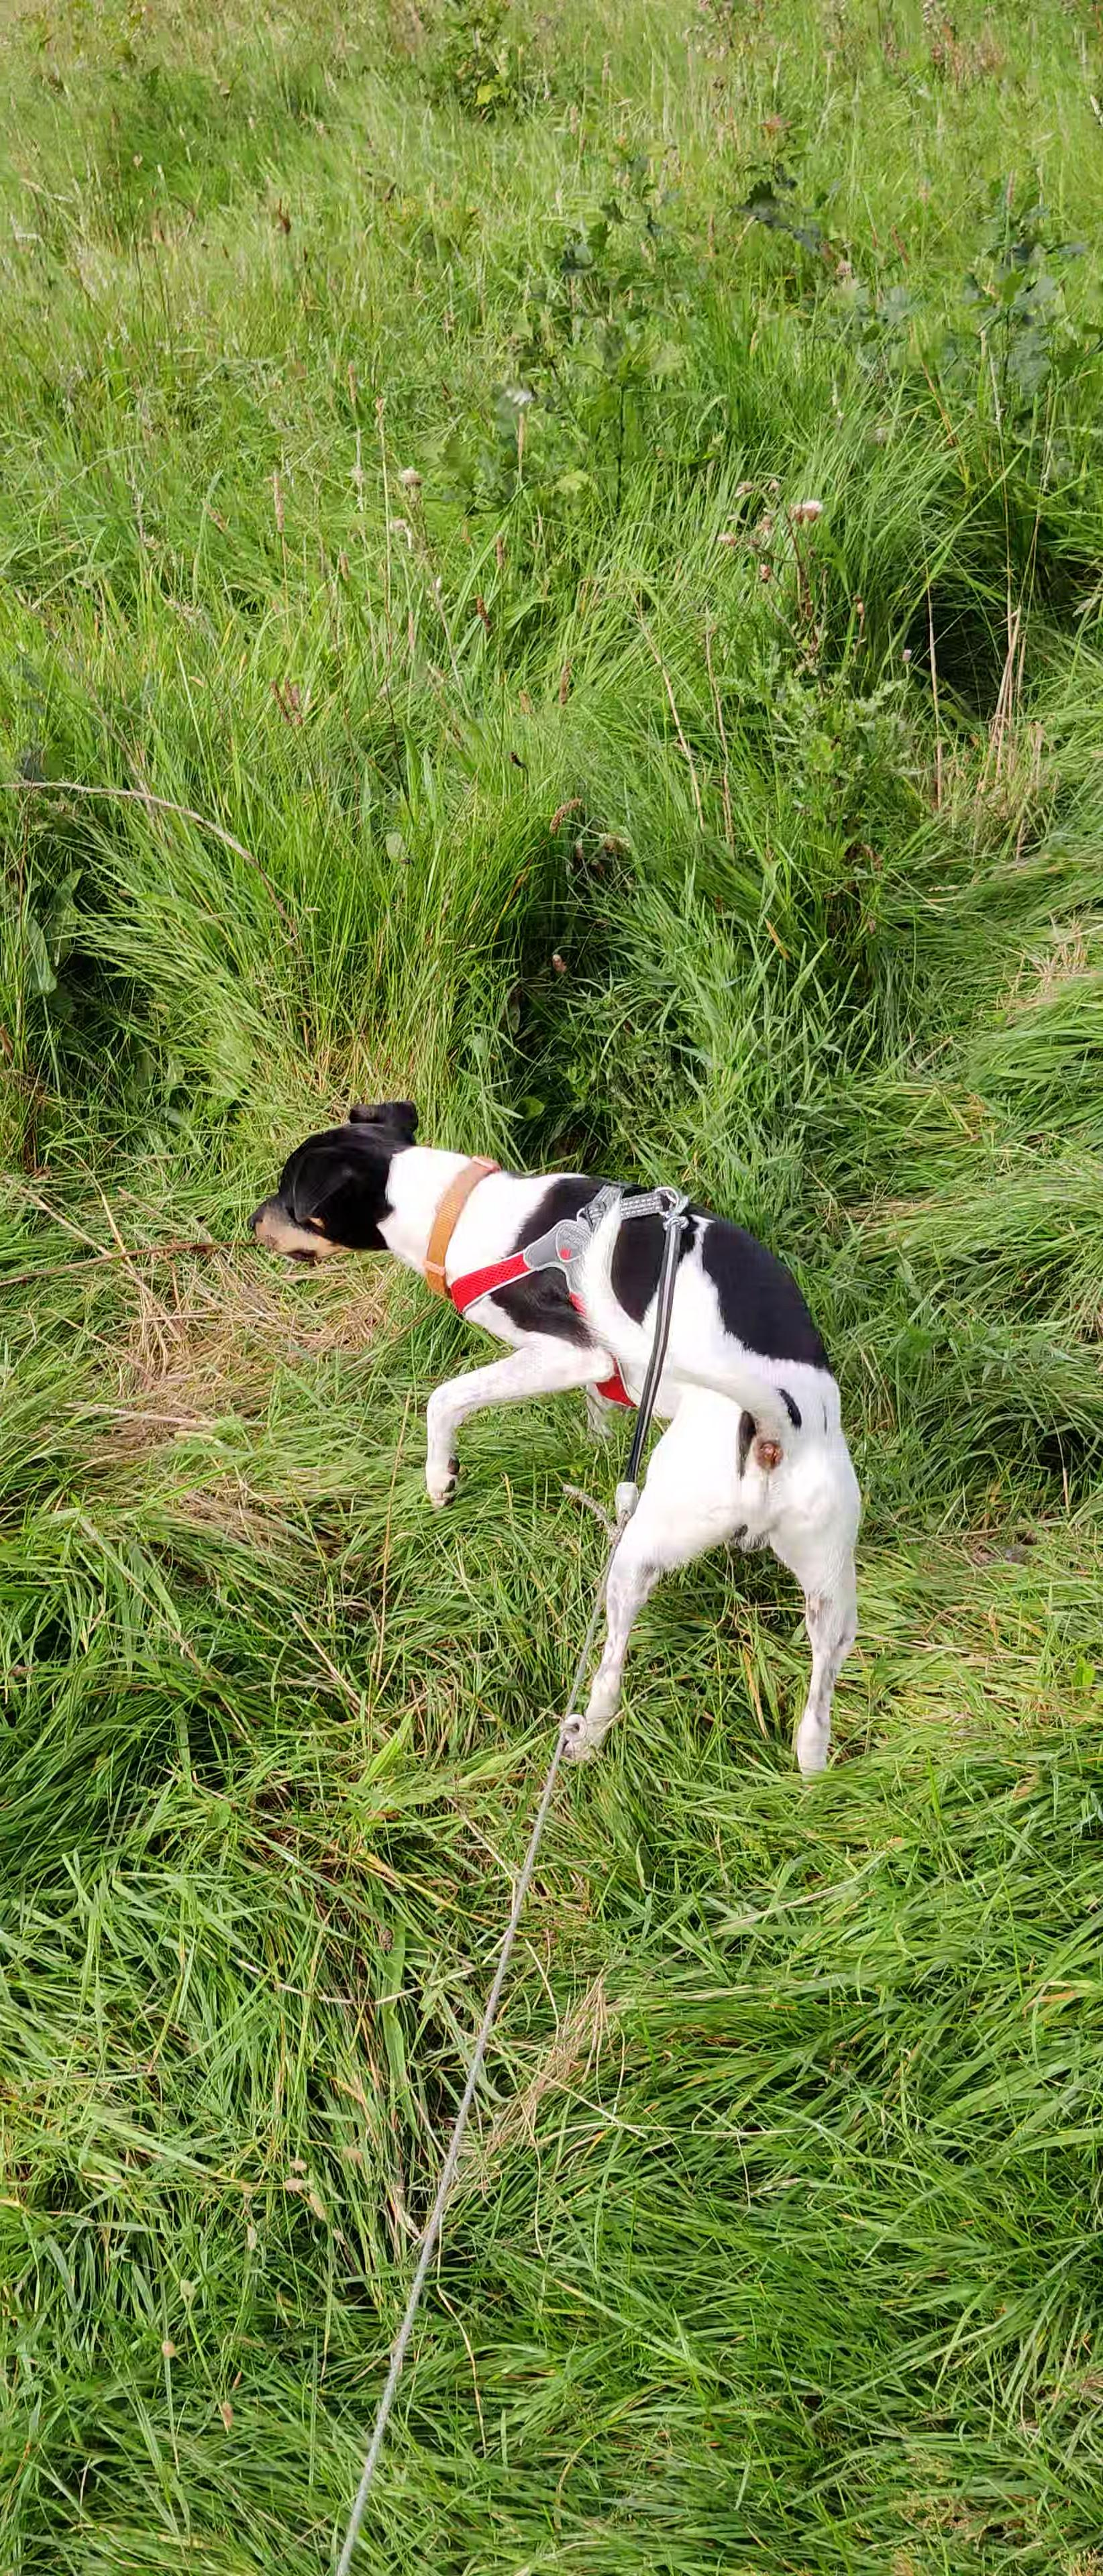Dog: (237, 1094, 875, 1789)
